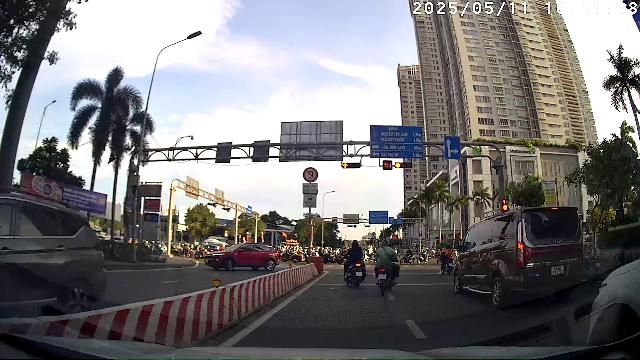103c-cam-oto-re-trai: (302, 167, 319, 182)
